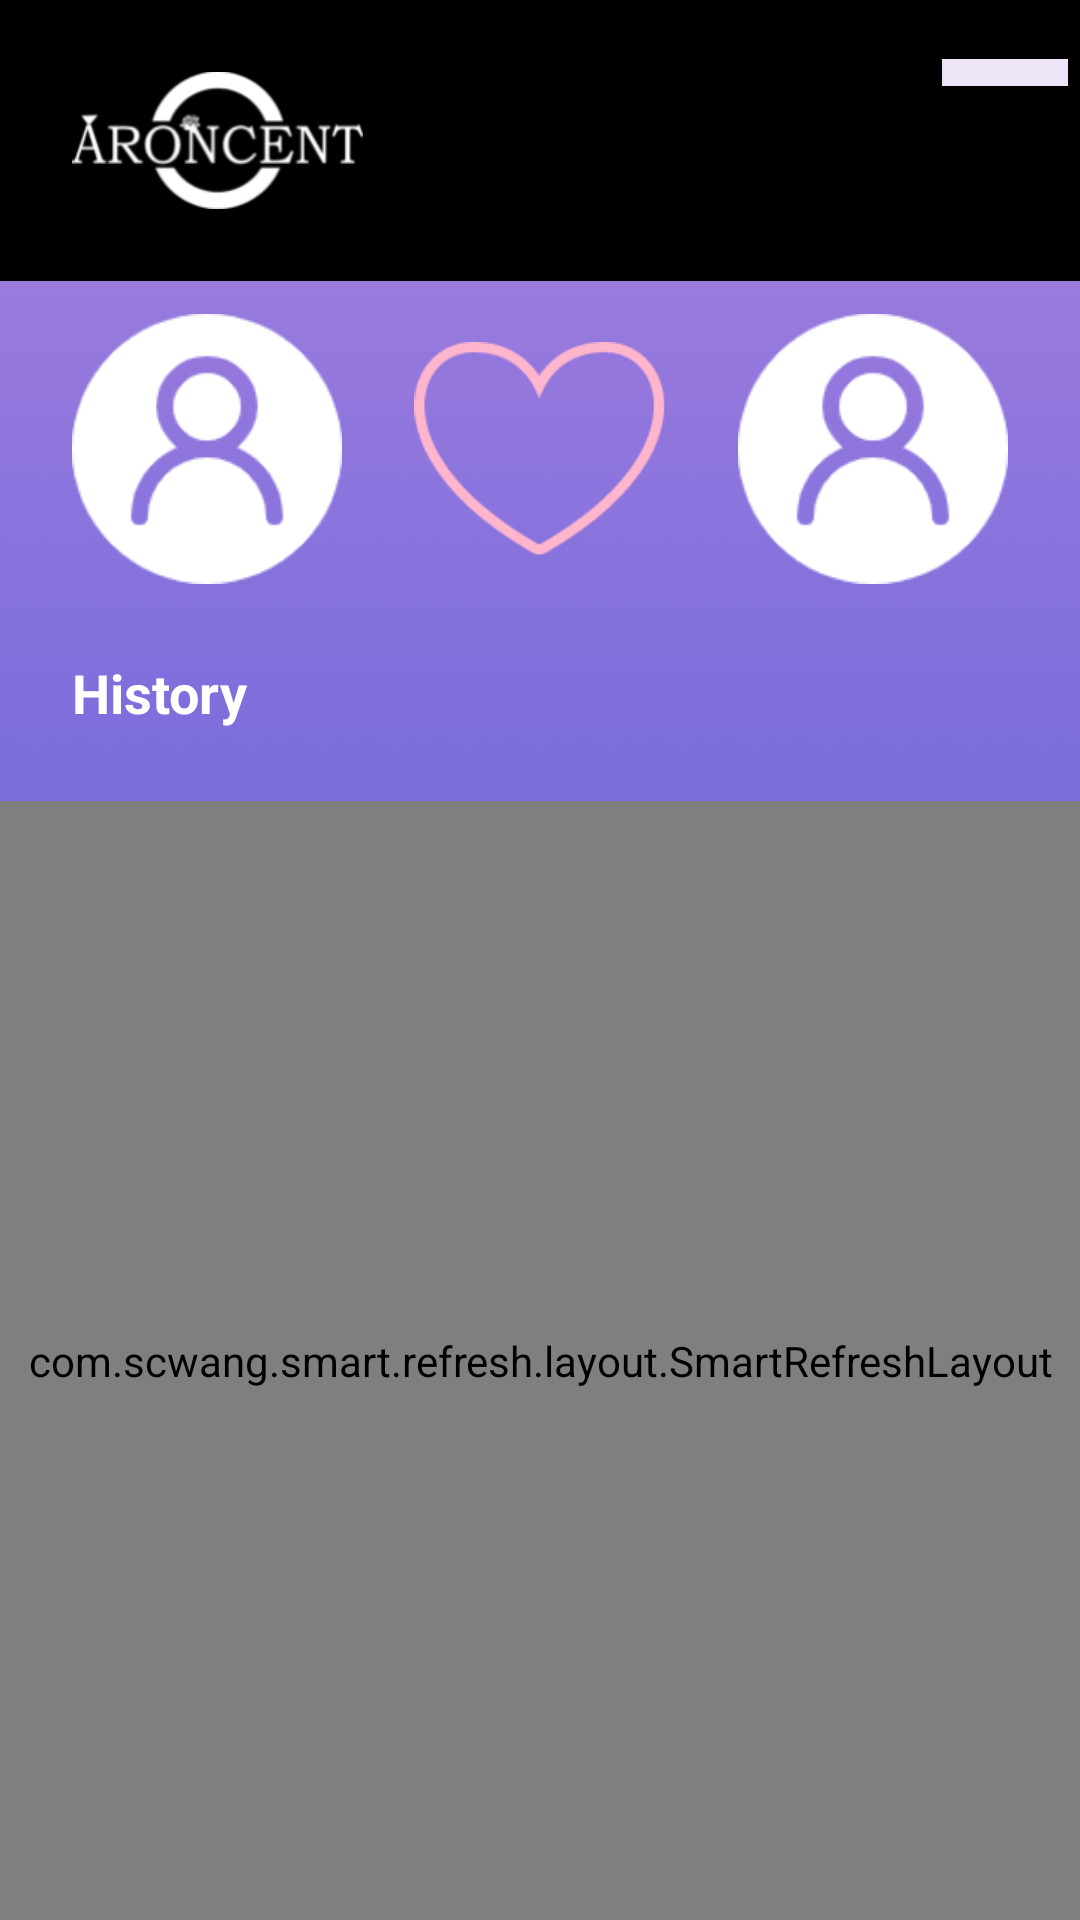

Icon bounding boxes for this 1080w x 1920h phone screenshot, format (x1, y1, x2, y2):
head pic: (72, 314, 342, 584), (738, 314, 1008, 584)
